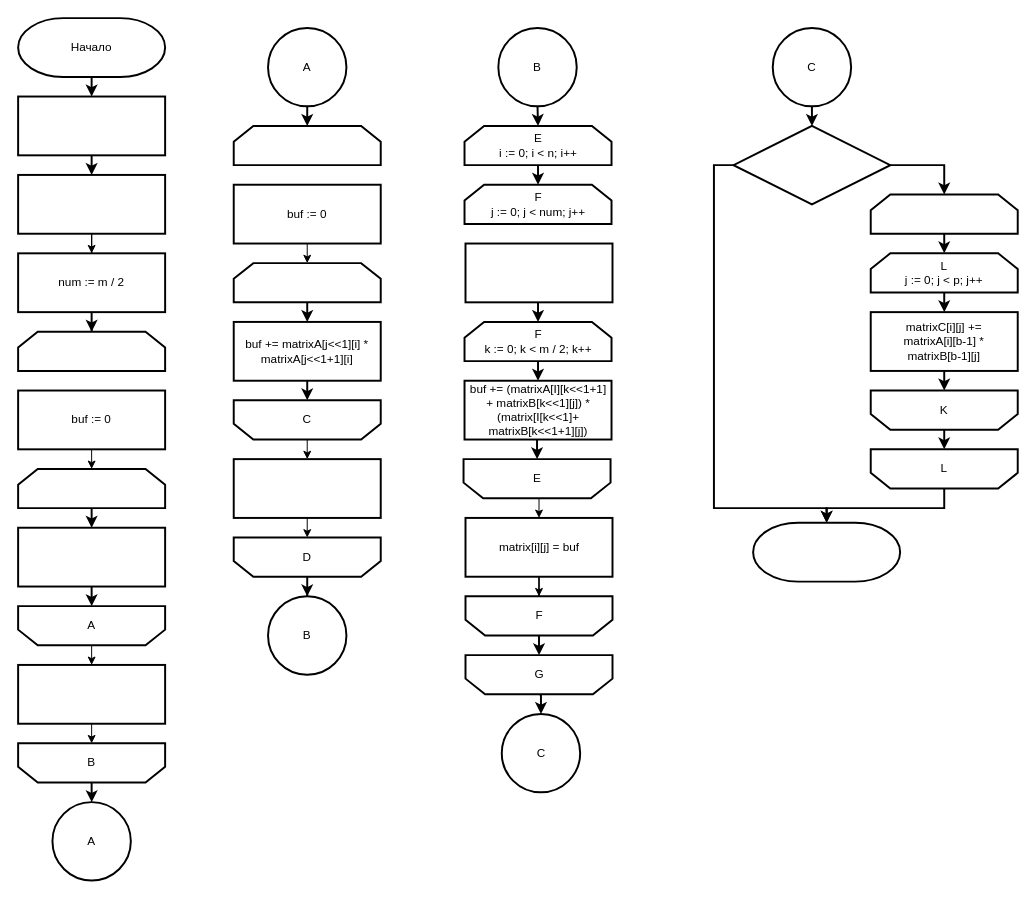
This 1035x898 diagram has some shape labels left out. Each missing label, with the centre of its shape:
"A i := 0; i < n; i++" goes at (x=91, y=350).
"b % 2 == 1" goes at (x=811, y=164).
"B j := 0; j < m / 2; j++" goes at (x=91, y=488).
"buf := -row[I] - column[j]" goes at (x=538, y=272).
"C i := 0; i < p; i++" goes at (x=306, y=145).
"column[i] = but" goes at (x=306, y=488).
"D j := 0; j < num; j++" goes at (x=306, y=282).
"K i := 0; i < n; i++" goes at (x=943, y=213).
"row[i] = buf" goes at (x=91, y=693).
"row[i] = row[i] + matrixA[i][2*j] * matrixA[i][2*j+1]" goes at (x=91, y=556).
"Конец" goes at (x=826, y=551).
"Создать массивы row и column" goes at (x=91, y=203).
"Создать матрицу" goes at (x=91, y=125).
